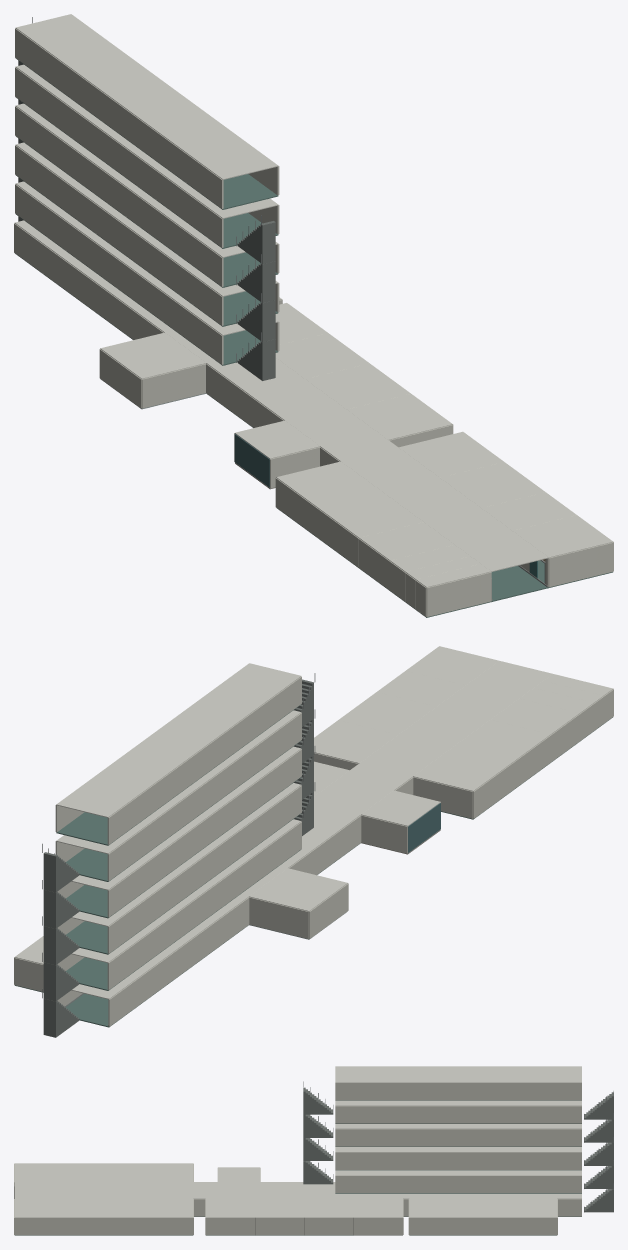
The model's file is school_shell.glb.
The picture shows the model from 3 angles, top to bottom: view 1: azimuth 30°, elevation 25°; view 2: azimuth 150°, elevation 25°; view 3: azimuth 270°, elevation 25°; orthographic projection. The views are drawn at different scales.
Parts seen in each view (by area): view 1: FLOOR_01_M_ceiling, FLOOR_01_M_wall_ivory, F6_ceiling, FLOOR_06_M_wall_ivory, FLOOR_05_M_wall_ivory, FLOOR_02_M_wall_ivory, FLOOR_03_M_wall_ivory, FLOOR_04_M_wall_ivory, F5_ceiling, F2_ceiling, F3_ceiling, F4_ceiling (+11 smaller); view 2: FLOOR_01_M_ceiling, FLOOR_01_M_wall_ivory, F6_ceiling, FLOOR_06_M_wall_ivory, FLOOR_05_M_wall_ivory, FLOOR_04_M_wall_ivory, FLOOR_02_M_wall_ivory, FLOOR_03_M_wall_ivory, F5_ceiling, F4_ceiling, F2_ceiling, F3_ceiling (+12 smaller); view 3: FLOOR_01_M_ceiling, FLOOR_01_M_wall_ivory, FLOOR_06_M_wall_ivory, FLOOR_02_M_wall_ivory, FLOOR_03_M_wall_ivory, FLOOR_04_M_wall_ivory, FLOOR_05_M_wall_ivory, F6_ceiling, F2_ceiling, F3_ceiling, F5_ceiling, F4_ceiling (+6 smaller).
Boxes of the visible parts, x1=… form: FLOOR_01_M_ceiling: x1=15, y1=220, x2=612, y2=587; FLOOR_01_M_wall_ivory: x1=14, y1=223, x2=613, y2=616; F6_ceiling: x1=16, y1=14, x2=278, y2=179; FLOOR_06_M_wall_ivory: x1=15, y1=28, x2=279, y2=208; FLOOR_05_M_wall_ivory: x1=15, y1=67, x2=279, y2=247; FLOOR_02_M_wall_ivory: x1=15, y1=184, x2=279, y2=364; FLOOR_03_M_wall_ivory: x1=15, y1=145, x2=279, y2=325; FLOOR_04_M_wall_ivory: x1=15, y1=106, x2=279, y2=286; F5_ceiling: x1=15, y1=64, x2=278, y2=218; F2_ceiling: x1=15, y1=181, x2=278, y2=335; F3_ceiling: x1=15, y1=142, x2=278, y2=296; F4_ceiling: x1=15, y1=103, x2=278, y2=257; FLOOR_01_M_ceiling: x1=14, y1=646, x2=613, y2=999; FLOOR_01_M_wall_ivory: x1=14, y1=689, x2=613, y2=1026; F6_ceiling: x1=56, y1=663, x2=301, y2=817; FLOOR_06_M_wall_ivory: x1=55, y1=676, x2=301, y2=844; FLOOR_05_M_wall_ivory: x1=55, y1=712, x2=301, y2=880; FLOOR_04_M_wall_ivory: x1=57, y1=749, x2=301, y2=917; FLOOR_02_M_wall_ivory: x1=57, y1=821, x2=301, y2=989; FLOOR_03_M_wall_ivory: x1=57, y1=785, x2=301, y2=953; F5_ceiling: x1=56, y1=710, x2=301, y2=853; F4_ceiling: x1=71, y1=746, x2=301, y2=890; F2_ceiling: x1=71, y1=819, x2=301, y2=962; F3_ceiling: x1=71, y1=783, x2=300, y2=926; FLOOR_01_M_ceiling: x1=14, y1=1163, x2=581, y2=1217; FLOOR_01_M_wall_ivory: x1=14, y1=1163, x2=581, y2=1235; FLOOR_06_M_wall_ivory: x1=335, y1=1082, x2=581, y2=1100; FLOOR_02_M_wall_ivory: x1=335, y1=1175, x2=581, y2=1192; FLOOR_03_M_wall_ivory: x1=335, y1=1152, x2=581, y2=1169; FLOOR_04_M_wall_ivory: x1=335, y1=1129, x2=581, y2=1146; FLOOR_05_M_wall_ivory: x1=335, y1=1106, x2=581, y2=1123; F6_ceiling: x1=335, y1=1066, x2=581, y2=1082; F2_ceiling: x1=335, y1=1170, x2=581, y2=1175; F3_ceiling: x1=335, y1=1147, x2=581, y2=1152; F5_ceiling: x1=335, y1=1100, x2=581, y2=1105; F4_ceiling: x1=335, y1=1124, x2=581, y2=1128.
Bounding box in the file's own units: 20.98 × 24.04 × 97.28.
